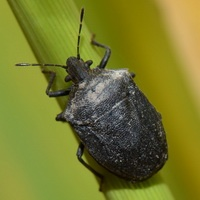insect: (13, 0, 167, 181)
